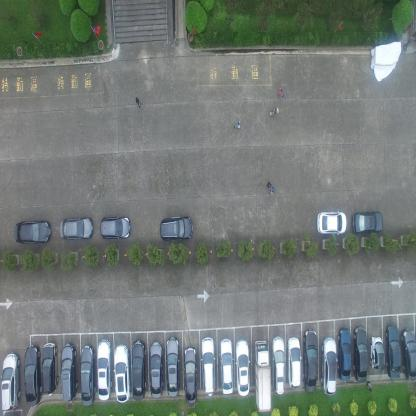car: (253, 338, 272, 414), (0, 350, 21, 413), (24, 342, 42, 406), (78, 344, 96, 407), (130, 338, 146, 402), (96, 337, 112, 401), (113, 343, 130, 403), (60, 341, 77, 401), (164, 334, 180, 397), (320, 336, 337, 395), (201, 335, 217, 396), (303, 328, 318, 392), (14, 219, 51, 244), (160, 214, 194, 241), (385, 322, 401, 379), (148, 340, 163, 400), (42, 341, 58, 396), (352, 326, 368, 381), (400, 328, 416, 382), (235, 339, 250, 396), (317, 208, 347, 236), (59, 216, 94, 240), (352, 209, 384, 235), (100, 214, 132, 240), (183, 346, 197, 405), (272, 336, 286, 395), (220, 338, 234, 395), (287, 336, 301, 390), (338, 328, 352, 382), (370, 336, 385, 370)
